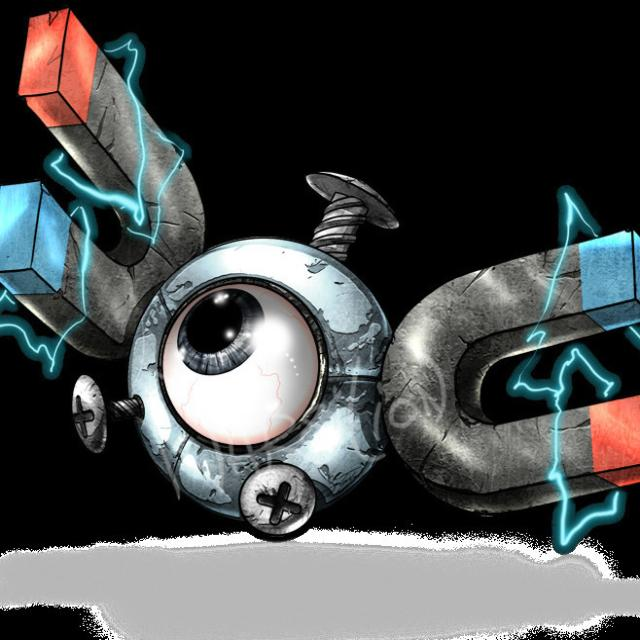Magnemite: (0, 136, 640, 518)
